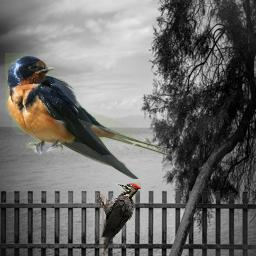Swallow: (5, 53, 171, 179)
Woodpecker: (97, 183, 141, 256)
